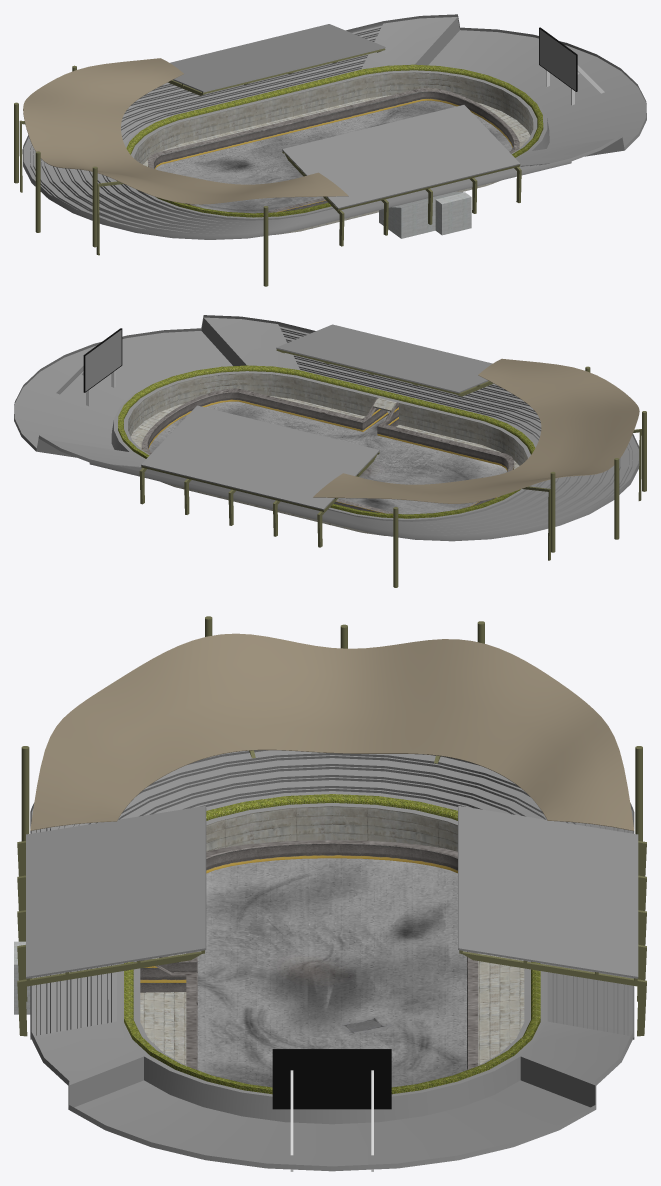
File: BattleScene03FBX.FBX
3 views of the same model, one above another, from view 1: azimuth 30°, elevation 25°; view 2: azimuth 150°, elevation 25°; view 3: azimuth 270°, elevation 25° (orthographic). The views are drawn at different scales.
Visible parts, largest first — view 1: OuterStadium, SinusTarp, Box011, StadiumShape, Box001, StadiumHedge, Stadiroom, Box021, ThickLightPole, Cylinder001, Cylinder003, Box005 (+2 smaller); view 2: OuterStadium, SinusTarp, StadiumShape, Box001, Box011, StadiumHedge, Box021, ThickLightPole, Cylinder002, Cylinder004, Box015, Box008 (+1 smaller); view 3: OuterStadium, SinusTarp, StadiumShape, Box001, Box011, Box021, StadiumHedge, Box012, Box003, Cylinder003.
Boxes of the visible parts, left/top/right/bottom form: OuterStadium: left=22, top=14, right=646, bottom=239; SinusTarp: left=23, top=58, right=348, bottom=204; Box011: left=282, top=105, right=520, bottom=208; StadiumShape: left=148, top=87, right=519, bottom=213; Box001: left=170, top=24, right=385, bottom=92; StadiumHedge: left=126, top=64, right=543, bottom=217; Stadiroom: left=379, top=191, right=471, bottom=238; Box021: left=539, top=27, right=577, bottom=91; ThickLightPole: left=35, top=151, right=40, bottom=232; Cylinder001: left=92, top=166, right=97, bottom=247; Cylinder003: left=263, top=206, right=268, bottom=286; Box005: left=202, top=48, right=385, bottom=94; OuterStadium: left=14, top=315, right=639, bottom=541; SinusTarp: left=313, top=358, right=639, bottom=503; StadiumShape: left=141, top=388, right=514, bottom=514; Box001: left=141, top=405, right=379, bottom=509; Box011: left=276, top=324, right=492, bottom=393; StadiumHedge: left=118, top=365, right=535, bottom=518; Box021: left=83, top=328, right=122, bottom=392; ThickLightPole: left=614, top=458, right=619, bottom=539; Cylinder002: left=550, top=471, right=555, bottom=552; Cylinder004: left=393, top=507, right=398, bottom=587; Box015: left=276, top=349, right=460, bottom=395; Box008: left=141, top=466, right=324, bottom=511; OuterStadium: left=30, top=750, right=634, bottom=1171; SinusTarp: left=30, top=633, right=634, bottom=831; StadiumShape: left=140, top=840, right=478, bottom=1087; Box001: left=458, top=805, right=638, bottom=978; Box011: left=26, top=805, right=206, bottom=978; Box021: left=272, top=1049, right=391, bottom=1109; StadiumHedge: left=124, top=794, right=540, bottom=1094; Box012: left=17, top=951, right=201, bottom=1036; Box003: left=462, top=951, right=646, bottom=1036; Cylinder003: left=21, top=746, right=29, bottom=841.
Size of the model in its own units: 539 by 92.12 by 317.
Materials: 11 (5 with a texture image).
